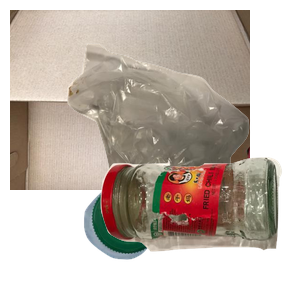cardboard: (10, 10, 250, 190)
glass: (98, 155, 300, 300)
plastic: (81, 179, 239, 300)
trash: (65, 41, 300, 221)
